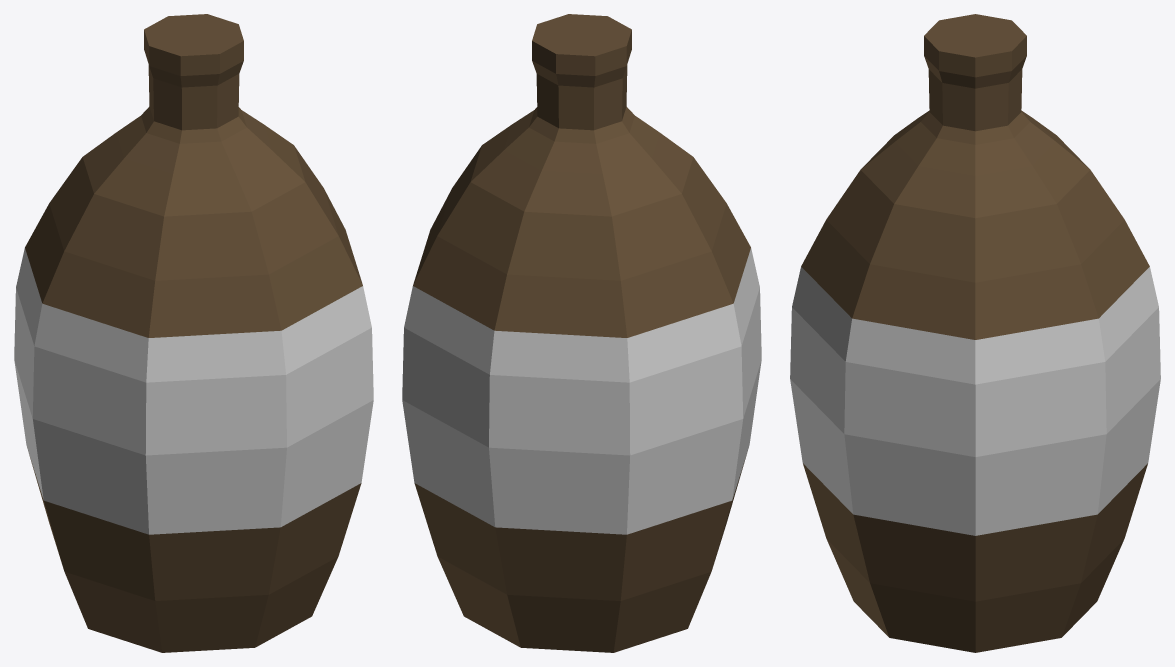
The model's file is Asian_Prop_Sake_Bottle_03.FBX.
3 renders of one model, left to right at view 1: azimuth 30°, elevation 25°; view 2: azimuth 150°, elevation 25°; view 3: azimuth 270°, elevation 25°, orthographic.
Visible parts, largest first — view 1: Asian_Prop_Sake_Bottle_03; view 2: Asian_Prop_Sake_Bottle_03; view 3: Asian_Prop_Sake_Bottle_03.
Boxes of the visible parts, x1,y1,x2,y2 form: Asian_Prop_Sake_Bottle_03: [14, 14, 373, 652]; Asian_Prop_Sake_Bottle_03: [402, 14, 761, 652]; Asian_Prop_Sake_Bottle_03: [790, 14, 1160, 652].
Bounding box in the file's own units: 131 × 220 × 131.
